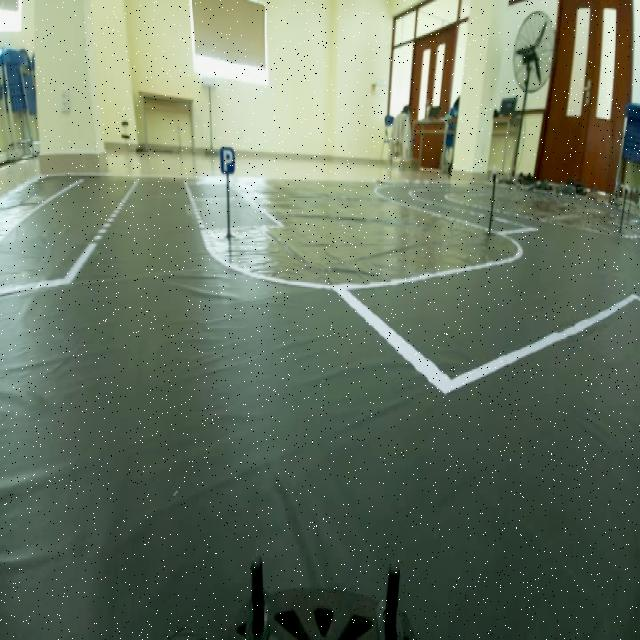parking: (213, 132, 237, 180)
